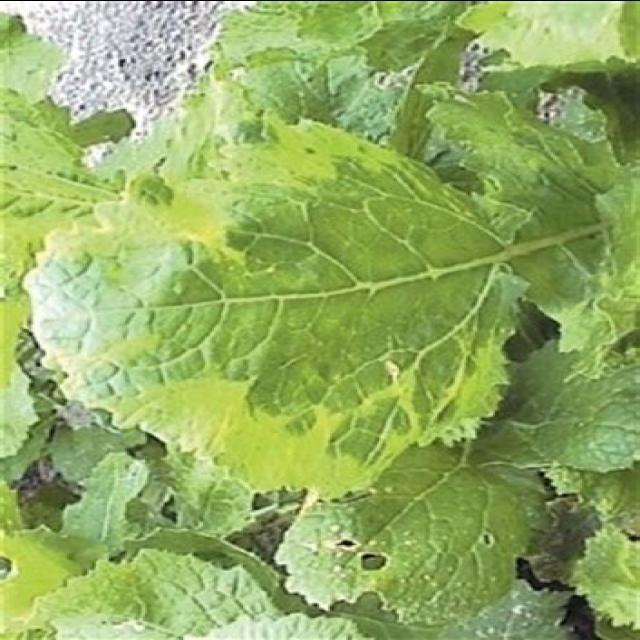Viral: (23, 99, 617, 504)
